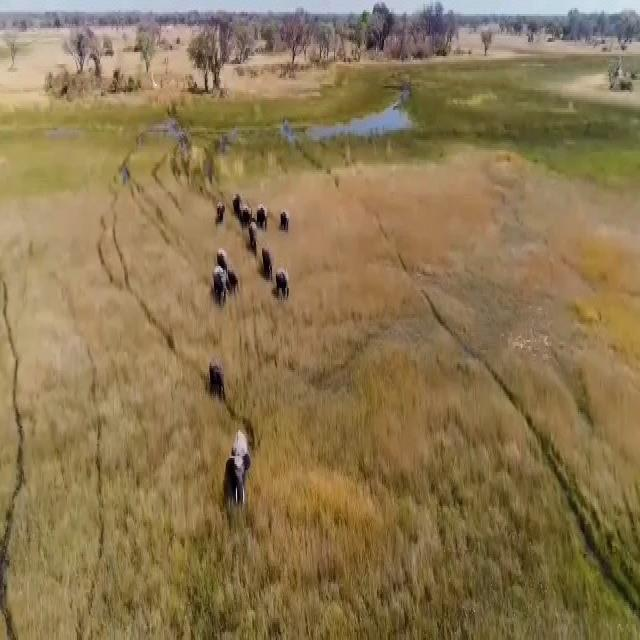Elephant: (223, 419, 247, 499), (210, 268, 231, 314), (204, 354, 225, 394), (276, 265, 295, 304), (260, 243, 272, 280), (237, 192, 250, 226), (216, 246, 229, 277), (249, 223, 256, 261), (254, 204, 266, 224), (282, 212, 294, 230), (215, 208, 227, 224)
